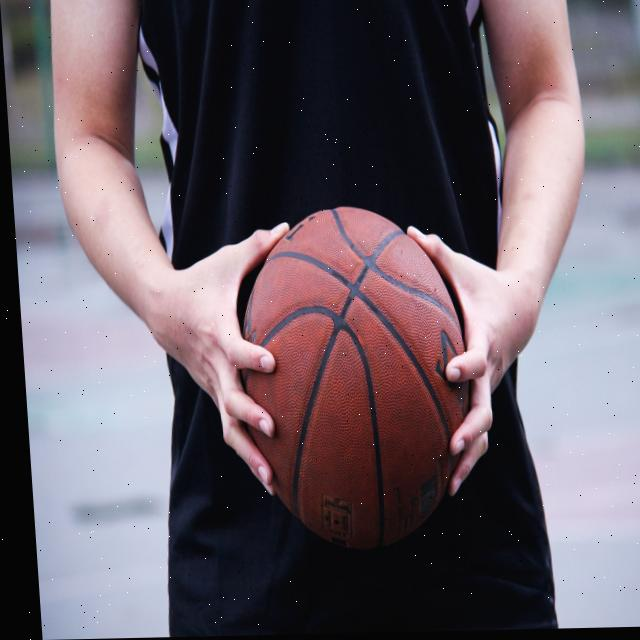Basketball: (233, 204, 480, 551)
